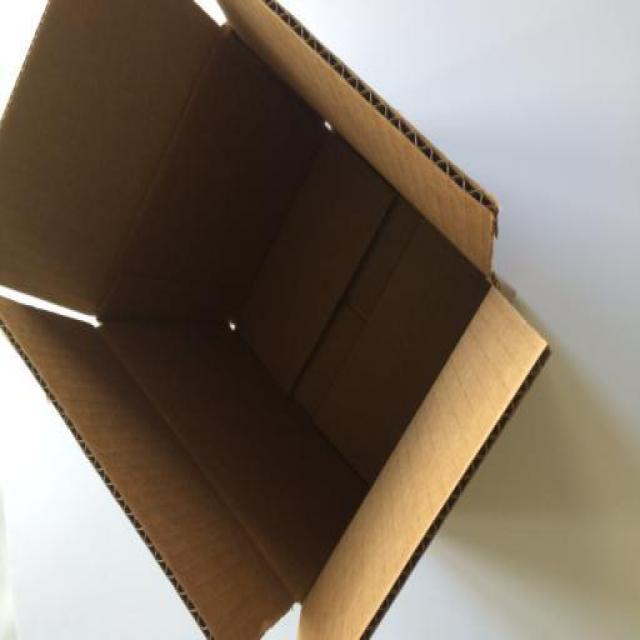cardboard: (1, 1, 552, 636)
